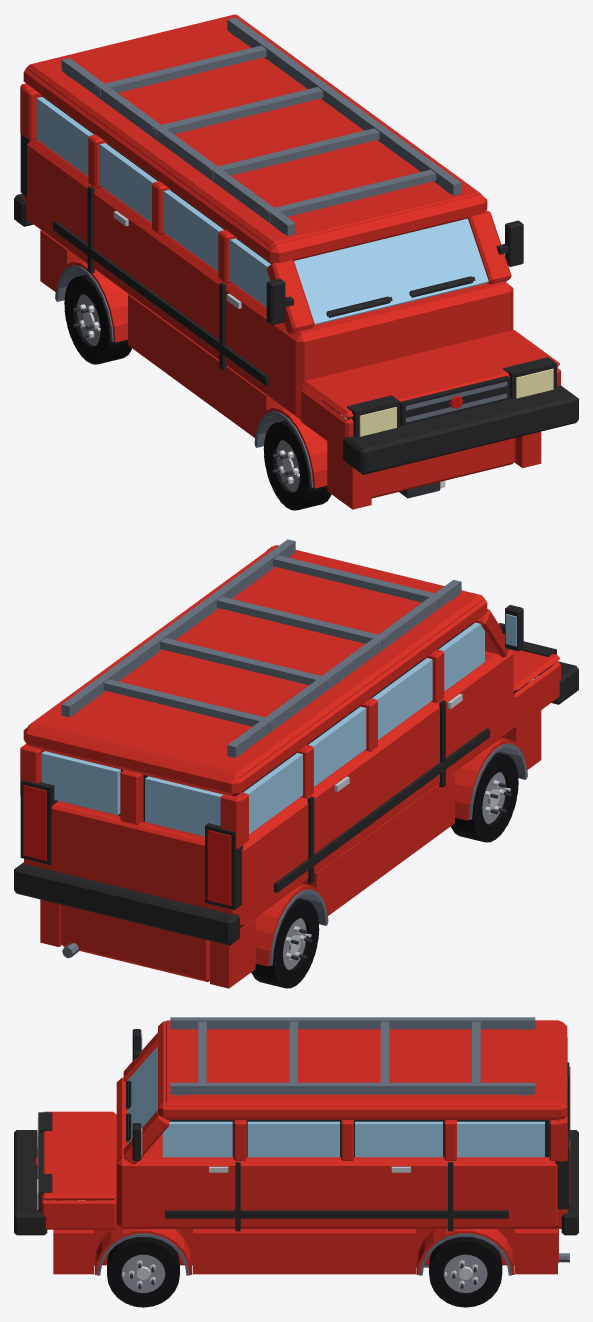
The model's file is Van.glb.
The picture shows the model from 3 angles, top to bottom: view 1: azimuth 30°, elevation 25°; view 2: azimuth 150°, elevation 25°; view 3: azimuth 270°, elevation 25°; orthographic projection. The views are drawn at different scales.
Visible parts, largest first — view 1: Body, Windscreen, Hood, WheelRR, WheelFR, LampR, LampL; view 2: Body, WheelRR, WheelFR, Hood; view 3: Body, Hood, WheelRL, WheelFL, Windscreen.
Boxes of the visible parts, bbox=[...] form: Body: bbox=[14, 14, 578, 509]; Windscreen: bbox=[294, 218, 488, 324]; Hood: bbox=[302, 330, 559, 418]; WheelRR: bbox=[64, 274, 131, 364]; WheelFR: bbox=[263, 420, 331, 510]; LampR: bbox=[359, 407, 396, 436]; LampL: bbox=[516, 368, 553, 398]; Body: bbox=[14, 539, 578, 988]; WheelRR: bbox=[251, 898, 319, 988]; WheelFR: bbox=[451, 752, 518, 842]; Hood: bbox=[511, 649, 559, 692]; Body: bbox=[14, 1017, 578, 1275]; Hood: bbox=[41, 1111, 116, 1199]; WheelRL: bbox=[429, 1237, 502, 1307]; WheelFL: bbox=[107, 1237, 179, 1307]; Windscreen: bbox=[127, 1046, 157, 1144].
Bounding box in the file's own units: 2.2 × 2.21 × 5.26.
